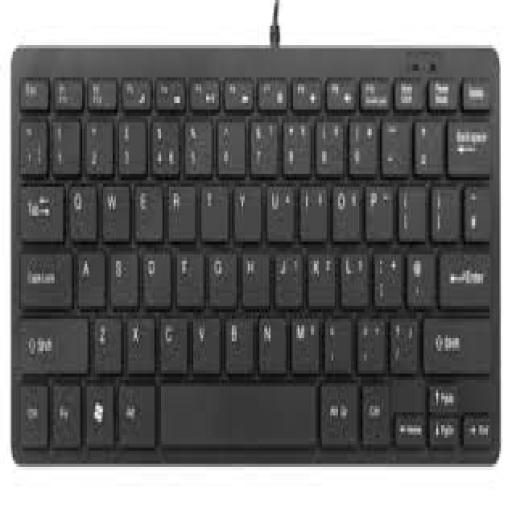KEYBOARD-2: (10, 45, 499, 460)
